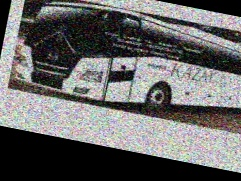bus: (17, 0, 241, 134)
